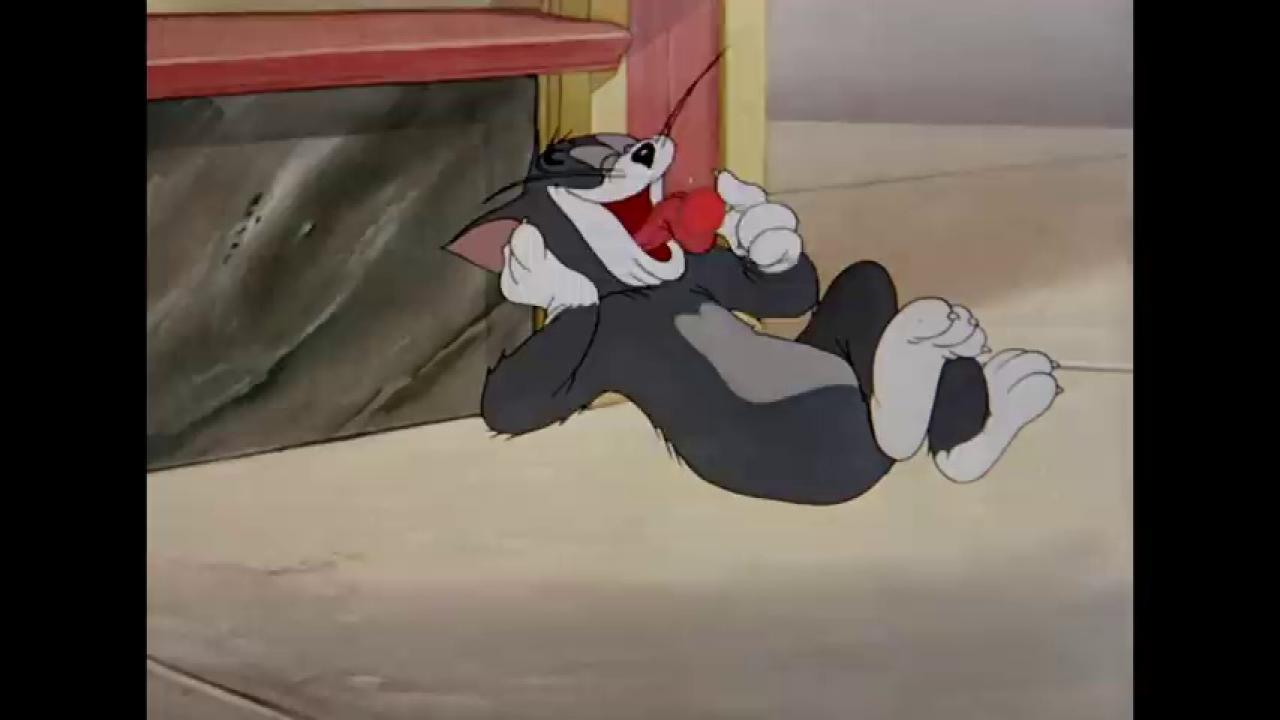Tom: (439, 118, 1067, 509)
